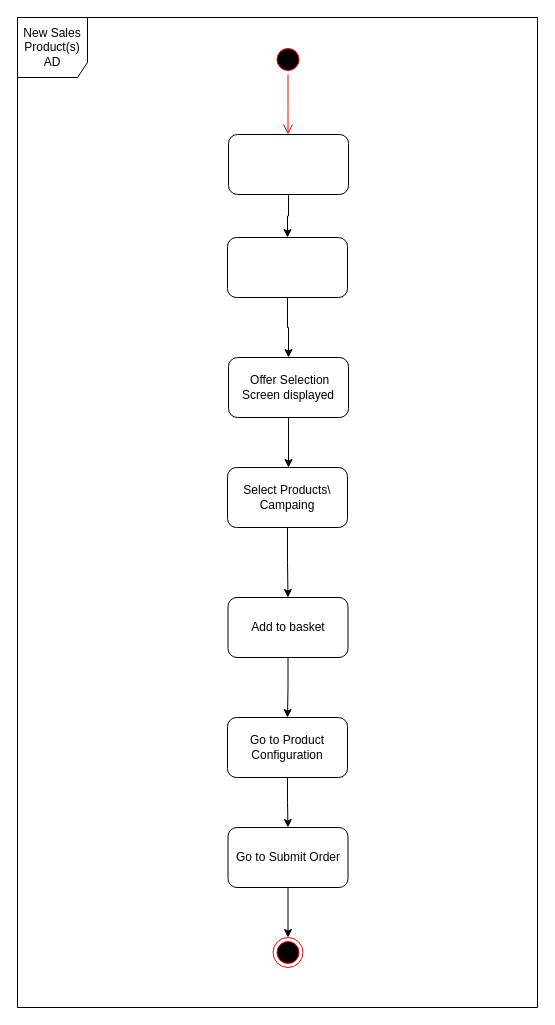
Some shapes in this 555 by 1025 pixel diagram are drawn without their labels. Each missing label, with the centre of its shape:
"On the Customer Account page,The Billing account selection is made," goes at (x=288, y=164).
"The new sales button is clicked" goes at (x=287, y=267).
